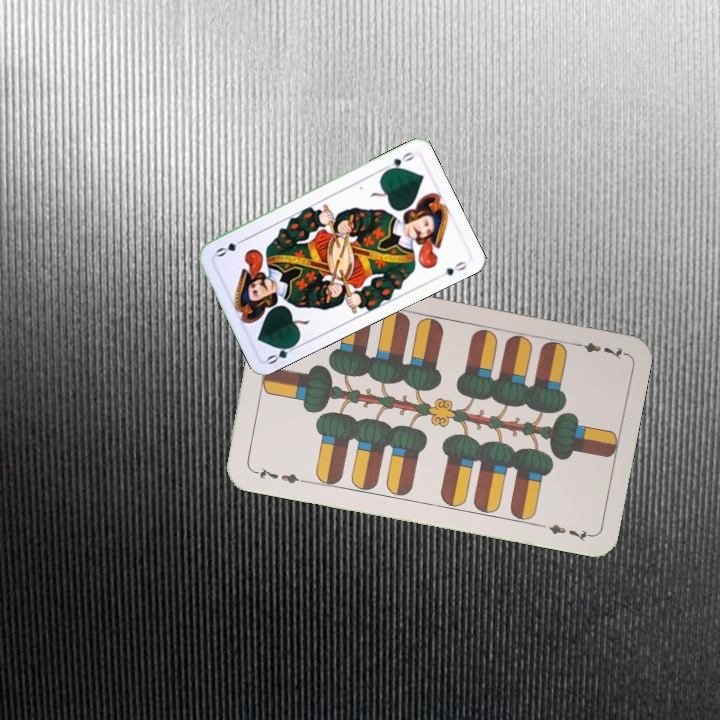E7: (249, 462, 308, 486), (568, 338, 627, 362)
GO: (263, 339, 302, 367), (379, 148, 418, 175)
